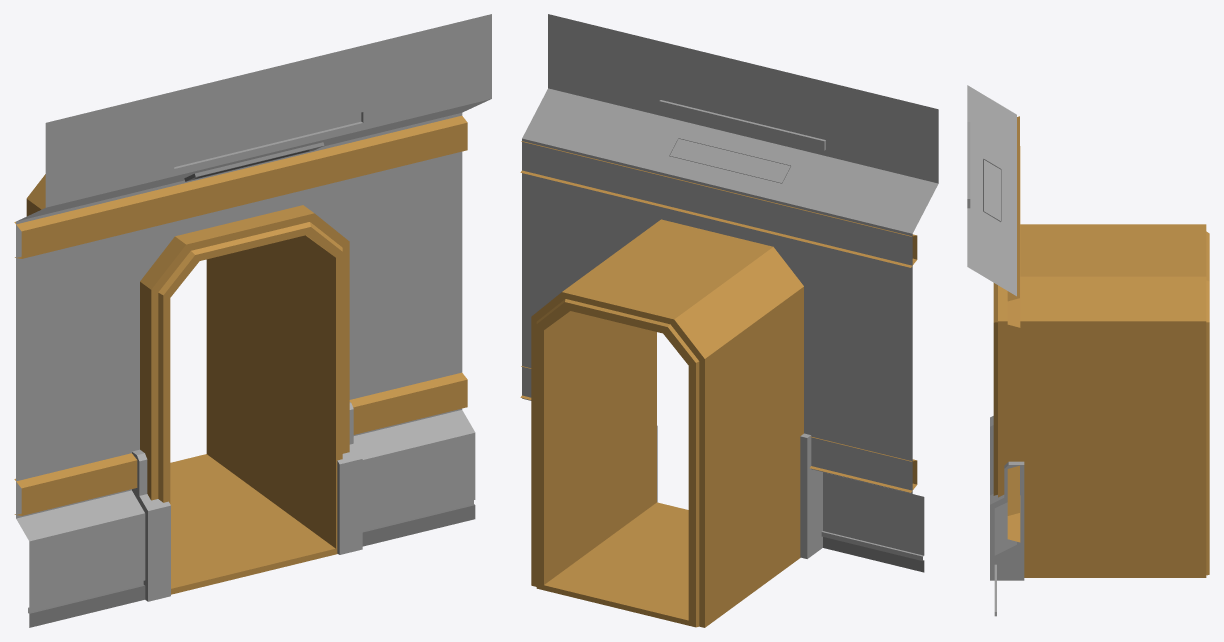
The model's file is DoorSingleLong_Wall_SideA.fbx.
3 renders of one model, left to right at view 1: azimuth 30°, elevation 25°; view 2: azimuth 150°, elevation 25°; view 3: azimuth 270°, elevation 25°, orthographic. The views are drawn at different scales.
Visible parts, largest first — view 1: DoorSingleLong_Wall_SideA; view 2: DoorSingleLong_Wall_SideA; view 3: DoorSingleLong_Wall_SideA.
Part boxes in pixels (box(x1,y1,x2,y2)): DoorSingleLong_Wall_SideA: box(14, 14, 491, 627); DoorSingleLong_Wall_SideA: box(520, 14, 938, 627); DoorSingleLong_Wall_SideA: box(967, 85, 1209, 616).
Bounding box in the file's own units: 4 × 4.44 × 2.25.
